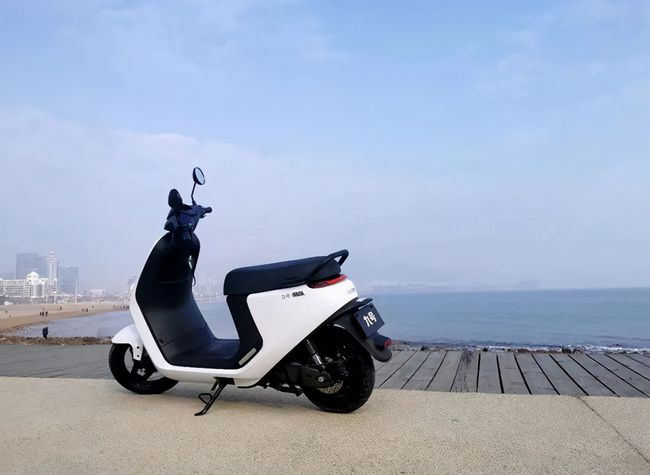电动车: (82, 150, 422, 438)
